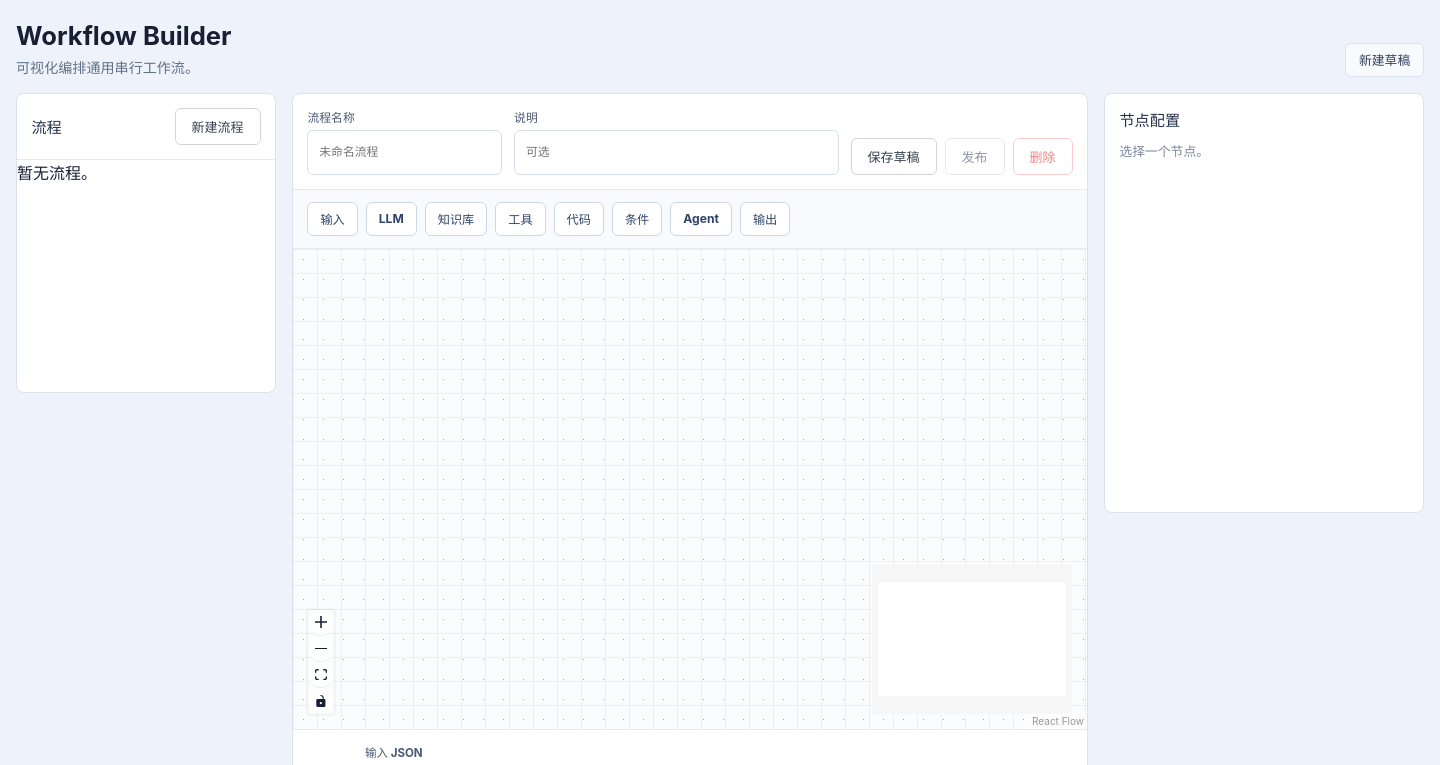
WorkflowBuilder › creates and saves a new workflow draft
Click the button "新建流程": (218, 126) [175,108,261,145]
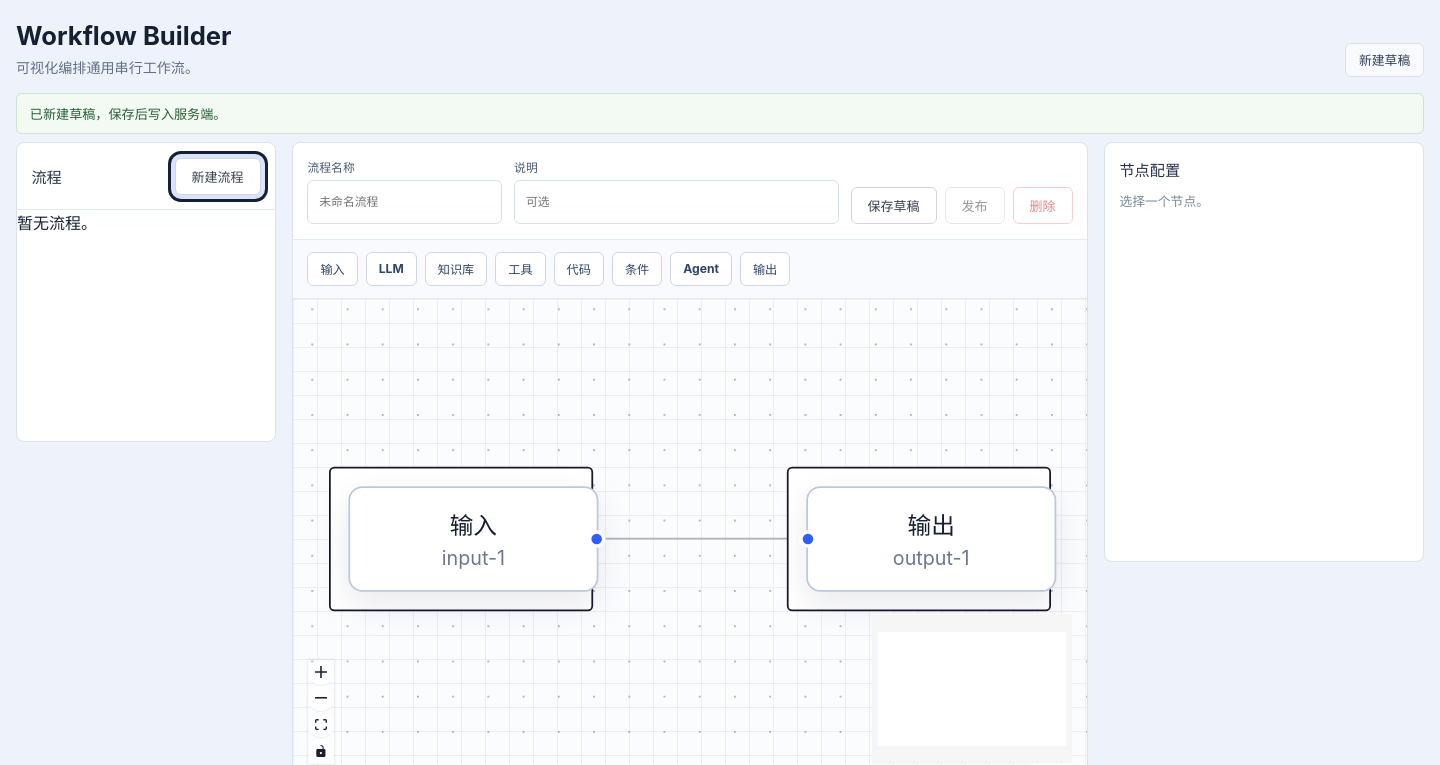
In the field labelled "流程名称": (405, 202) [307,180,502,224], type "新建流程"
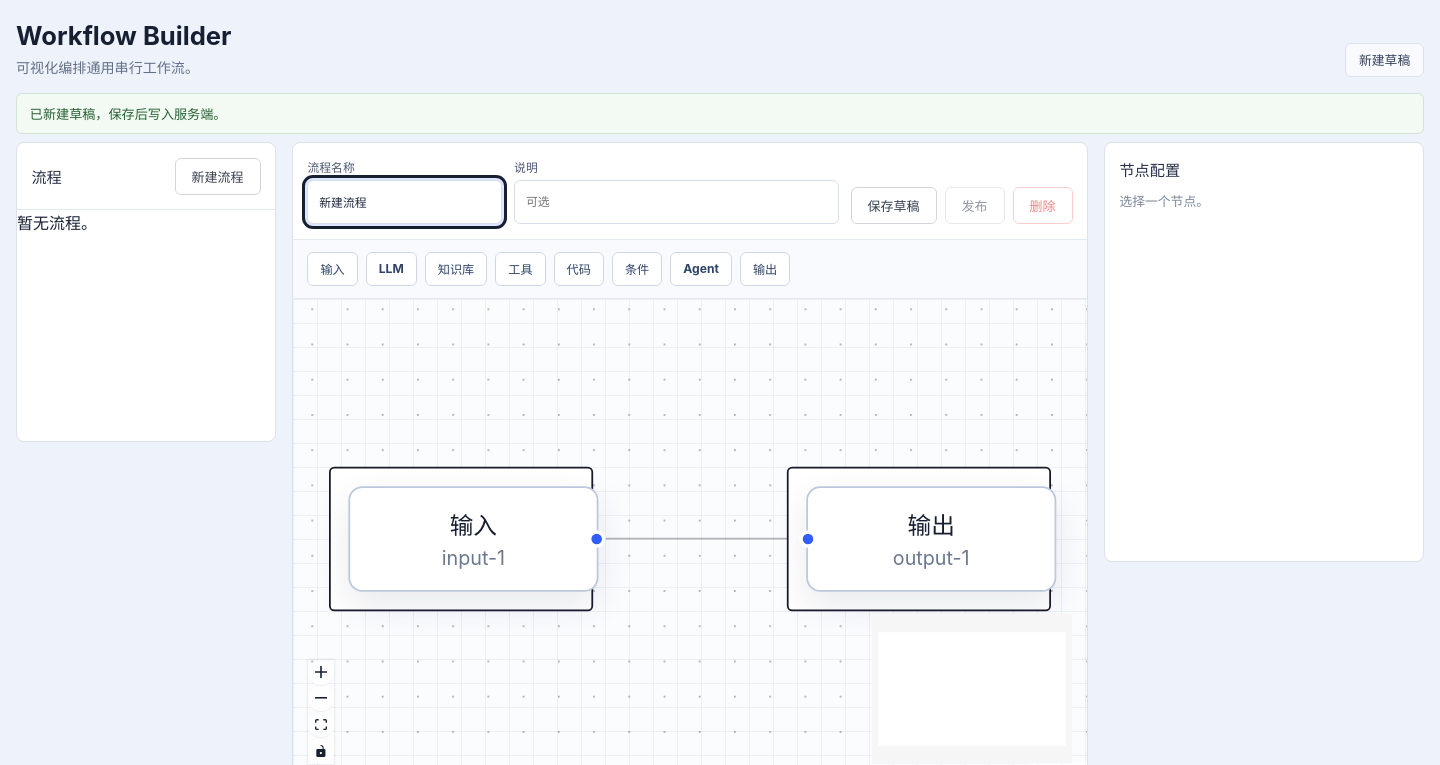
Click the button "保存草稿": (894, 206) [851,187,937,224]
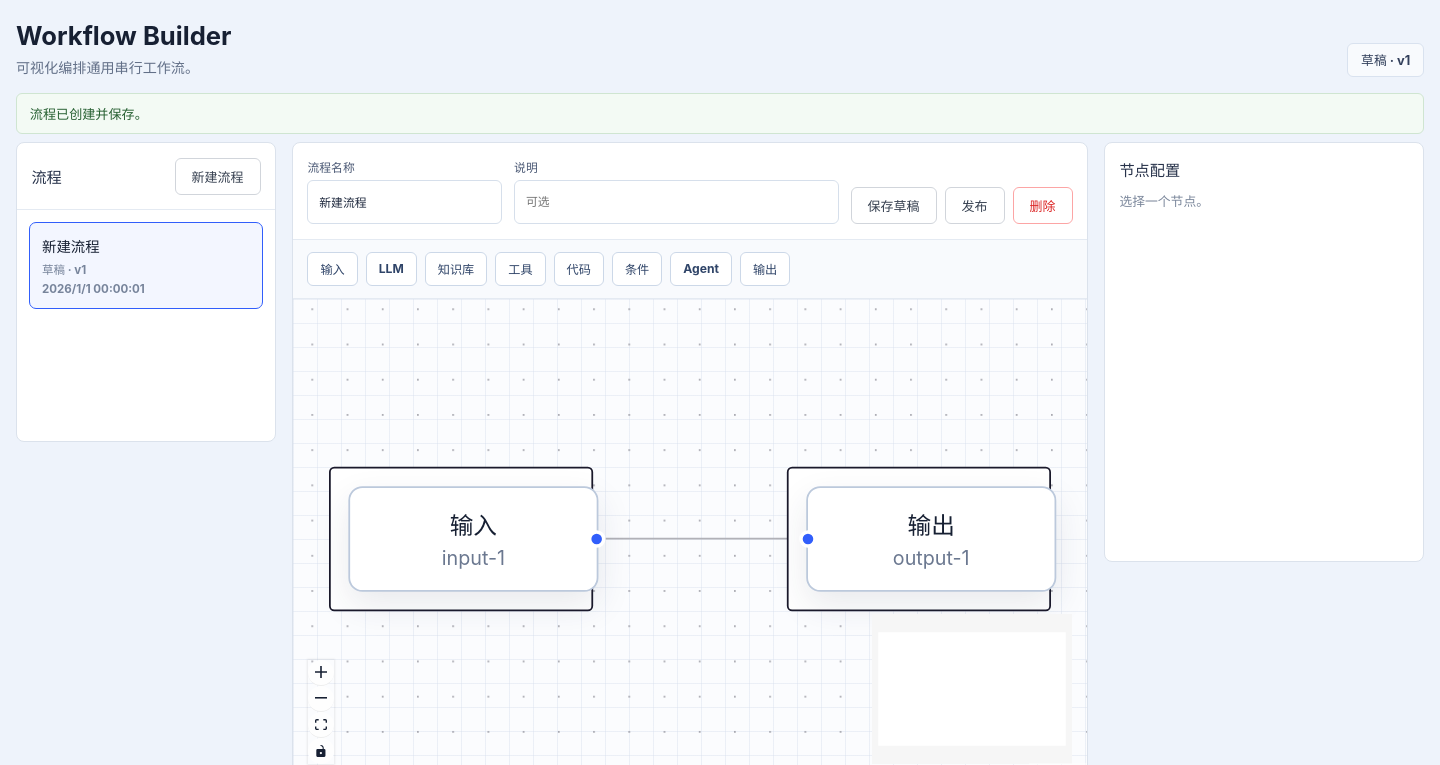
Check: the button "新建流程" is shown, box [175,158,261,195]
Check: the text "流程已创建并保存。" is shown, box [16,93,1424,134]
